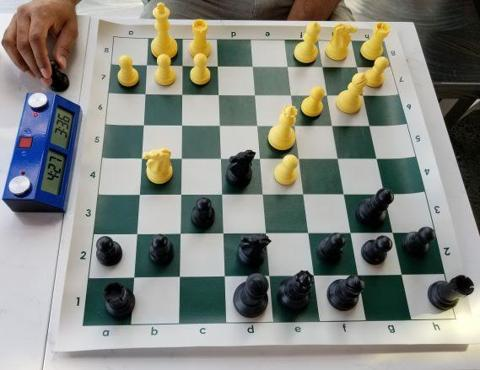xcorner: (394, 267, 406, 279), (385, 226, 397, 238), (376, 187, 388, 199), (369, 152, 381, 164), (361, 120, 373, 132), (355, 90, 367, 102), (349, 62, 361, 74), (351, 268, 363, 280), (344, 226, 356, 238), (337, 187, 349, 199), (331, 152, 343, 164), (325, 119, 337, 131), (320, 89, 332, 101), (315, 61, 327, 73), (308, 268, 320, 280), (302, 226, 314, 238), (297, 187, 309, 199), (293, 152, 305, 164), (288, 119, 300, 131), (284, 89, 296, 101), (281, 61, 293, 73), (264, 269, 276, 281), (260, 226, 272, 238), (257, 187, 269, 199), (254, 151, 266, 163), (251, 119, 263, 131), (249, 88, 261, 100), (246, 60, 258, 72), (219, 269, 231, 281), (218, 226, 230, 238), (216, 187, 228, 199), (215, 151, 227, 163), (214, 118, 226, 130), (213, 88, 225, 100), (212, 60, 224, 72), (174, 269, 186, 281), (175, 226, 187, 238), (175, 187, 187, 199), (176, 151, 188, 163), (176, 118, 188, 130), (176, 87, 188, 99), (177, 59, 189, 71), (129, 270, 141, 282), (131, 227, 143, 239), (134, 187, 146, 199), (136, 151, 148, 163), (138, 117, 150, 129), (140, 87, 152, 99), (141, 58, 153, 70)
